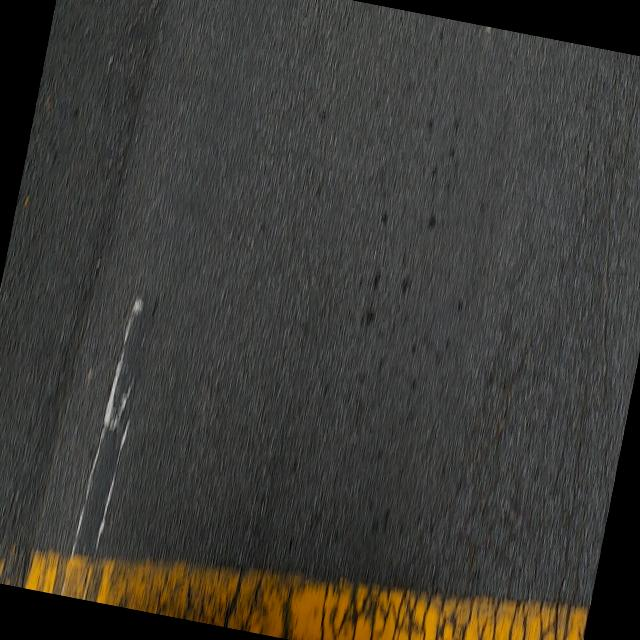Retak-Buaya: (215, 575, 587, 640)
